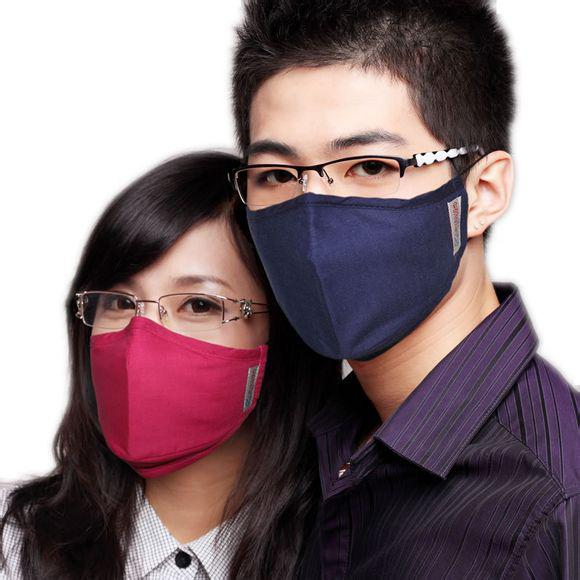OK: (252, 124, 461, 333), (82, 260, 277, 455)
